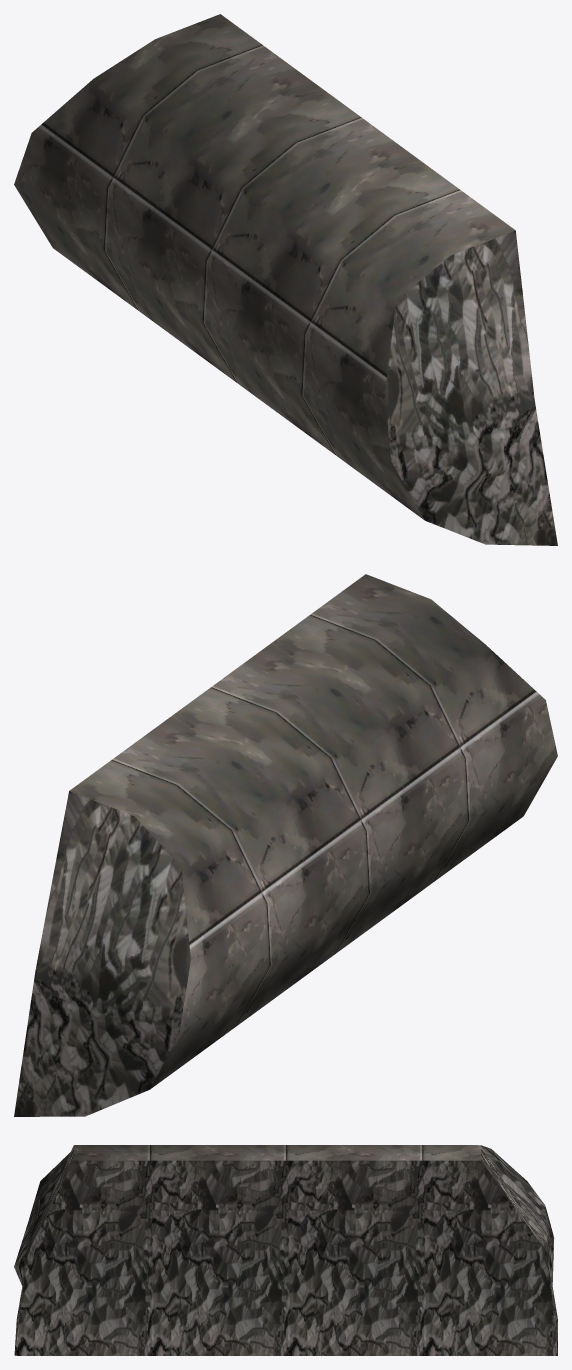
Rendered from INST_SM_DEBRIS_BLOCK_LARGEB.fbx.
The picture shows the model from 3 angles, top to bottom: view 1: azimuth 30°, elevation 25°; view 2: azimuth 150°, elevation 25°; view 3: azimuth 270°, elevation 25°; orthographic projection. The views are drawn at different scales.
Visible parts, largest first — view 1: INST_SM_DEBRIS_BLOCK_LARGEB; view 2: INST_SM_DEBRIS_BLOCK_LARGEB; view 3: INST_SM_DEBRIS_BLOCK_LARGEB.
Part boxes in pixels (<box>): INST_SM_DEBRIS_BLOCK_LARGEB: <box>14,14,557,545</box>; INST_SM_DEBRIS_BLOCK_LARGEB: <box>14,574,557,1116</box>; INST_SM_DEBRIS_BLOCK_LARGEB: <box>14,1145,557,1355</box>.
Bounding box in the file's own units: 20688 × 35390 × 89248.
2 materials, 2 textured.
